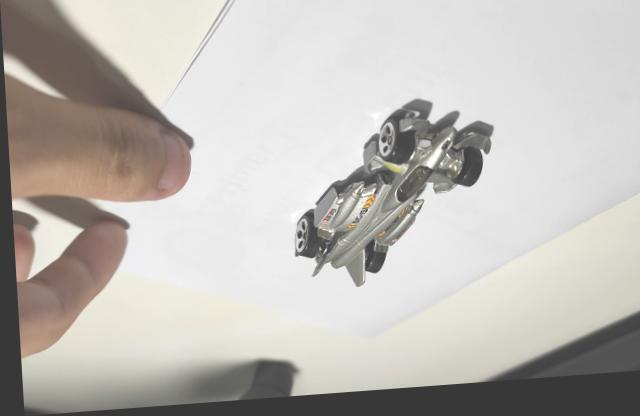05_DC121: (290, 104, 494, 292)
